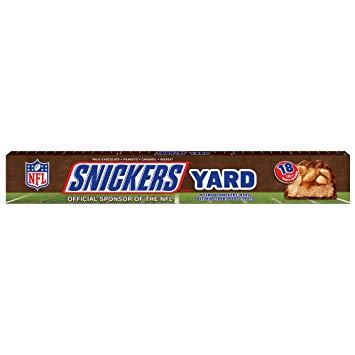snickers: (66, 163, 183, 189)
